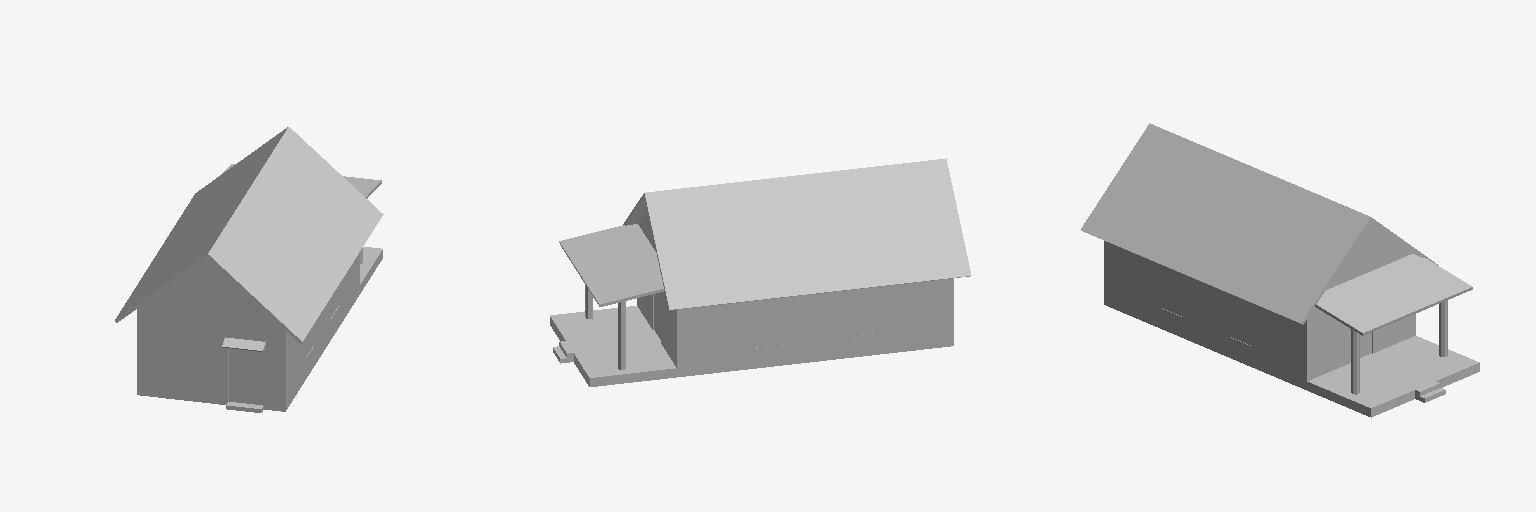
The model's file is House.obj.
3 renders of one model, left to right at view 1: azimuth 30°, elevation 25°; view 2: azimuth 150°, elevation 25°; view 3: azimuth 270°, elevation 25°, orthographic.
Parts seen in each view (by area): view 1: house; view 2: house; view 3: house.
Boxes of the visible parts, <box> form: house: <box>115,127,383,412</box>; house: <box>550,158,971,386</box>; house: <box>1081,123,1479,417</box>.
Size of the model in its own units: 149 by 63.85 by 149.